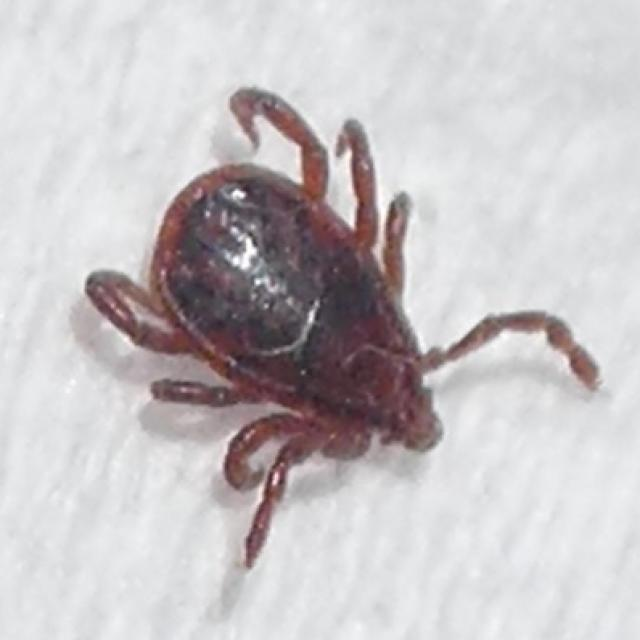Rhipicephalus Sanguineus-M: (84, 89, 601, 570)
